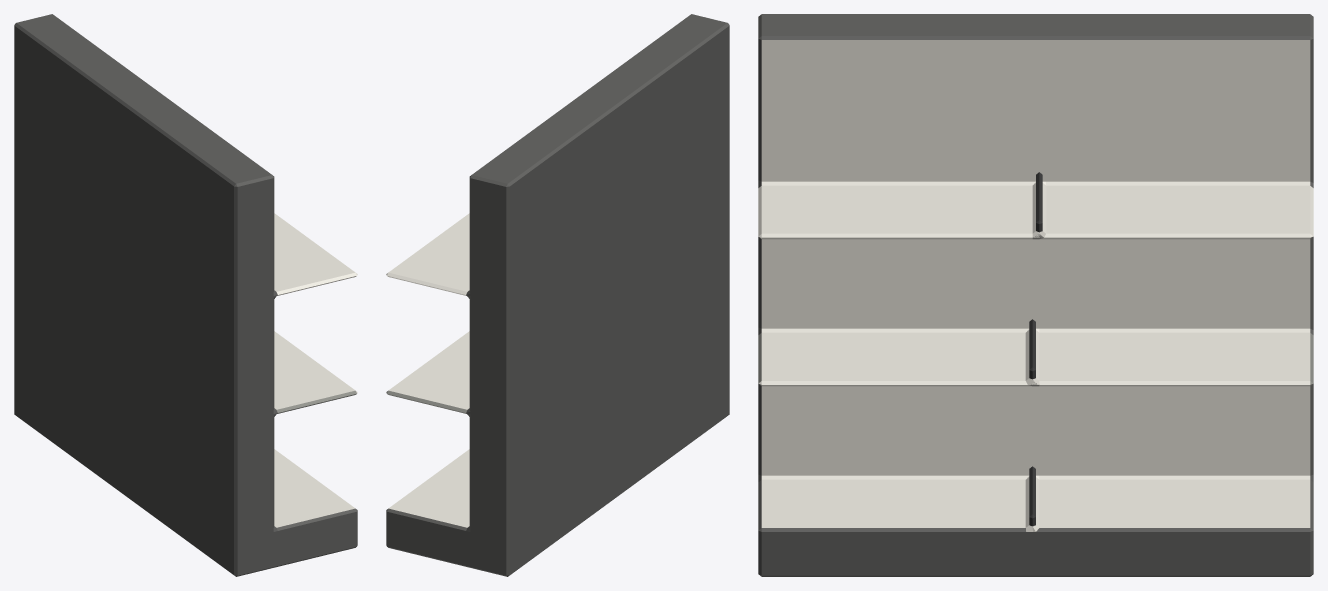
Rendered from Shelftest.fbx.
3 views of the same model, side by side, from view 1: azimuth 30°, elevation 25°; view 2: azimuth 150°, elevation 25°; view 3: azimuth 270°, elevation 25° (orthographic). The views are drawn at different scales.
Visible parts, largest first — view 1: Cube; view 2: Cube; view 3: Cube.
Part boxes in pixels (x1,y1,x2,y2): Cube: [14, 14, 357, 576]; Cube: [386, 14, 729, 576]; Cube: [758, 14, 1313, 576].
Size of the model in its own units: 92.34 by 281 by 288.
